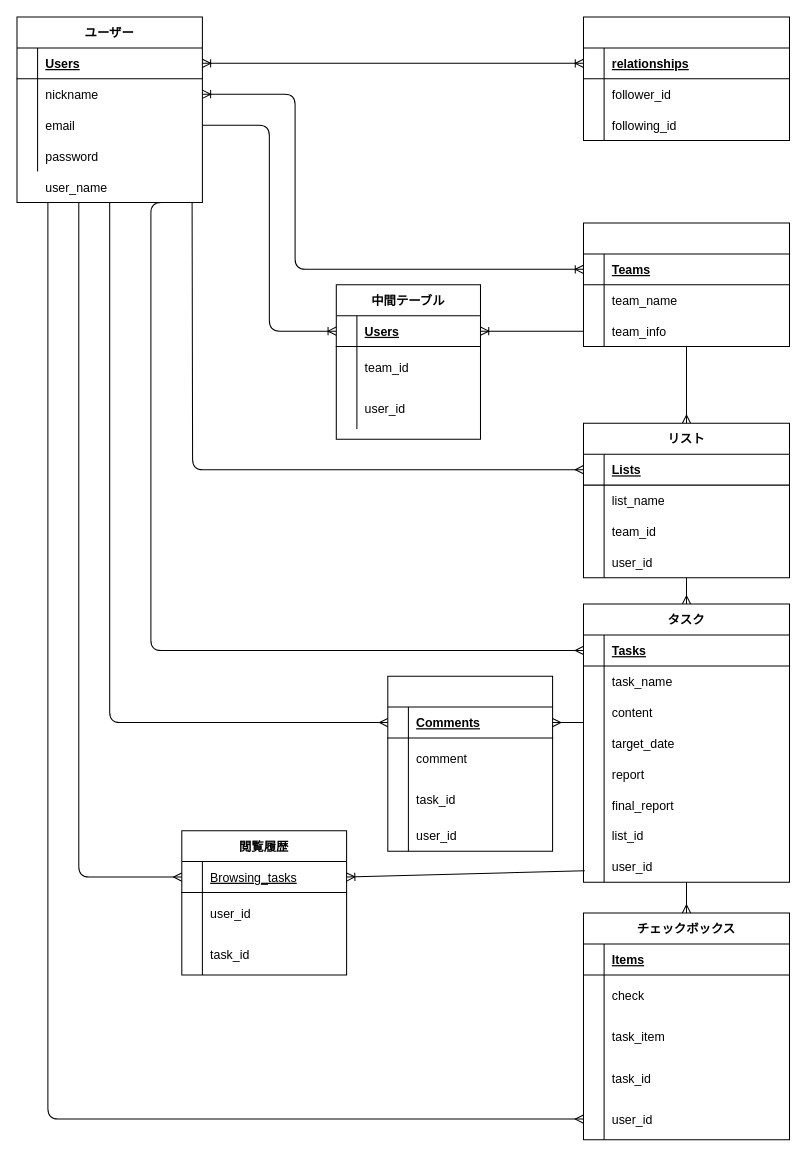
The diagram is 806 pixels wide and 1157 high, and some of its shapes have lost their labels. The shapes that lost their labels are listed below. From the top down, each one's box as (x1, y1, x2, y2) in pixels, then its label:
(582, 16, 789, 141): 友達登録機能
(582, 222, 789, 347): チーム
(387, 675, 553, 851): コメント
